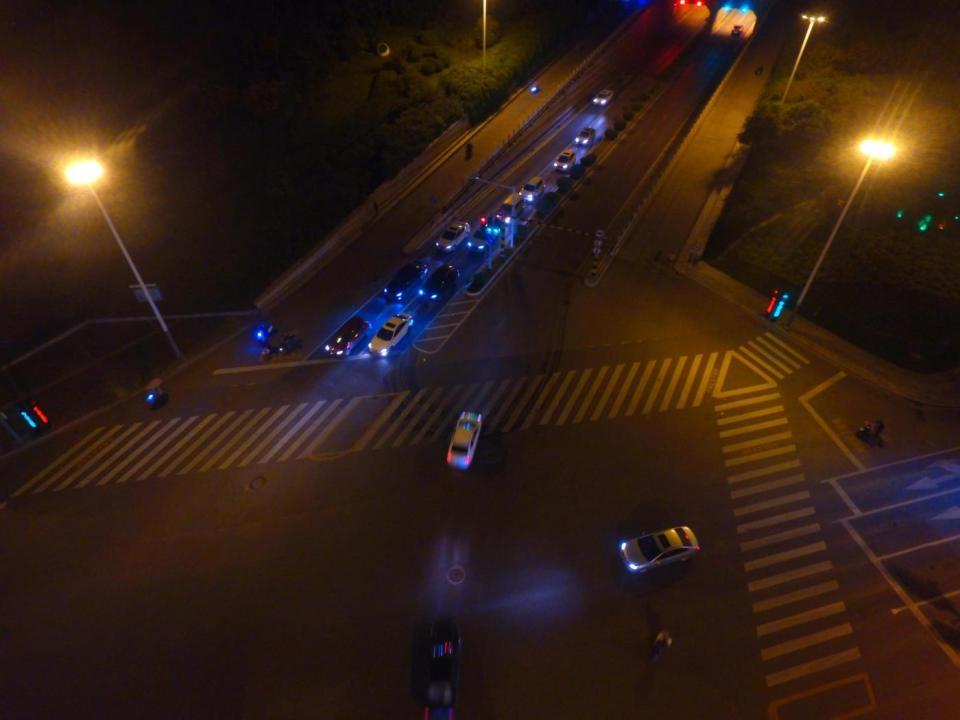car: (417, 622, 466, 718), (619, 524, 700, 572), (446, 414, 482, 470), (383, 260, 429, 302), (368, 314, 413, 356), (325, 317, 372, 357), (420, 266, 460, 302), (436, 224, 470, 253), (518, 175, 545, 205), (551, 150, 577, 174), (466, 227, 492, 250), (576, 127, 594, 147), (592, 90, 612, 106), (729, 25, 743, 36)
van: (500, 191, 524, 218)
